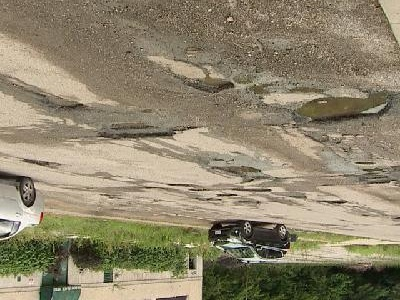pothole: (291, 87, 397, 126), (155, 56, 238, 95), (95, 119, 198, 142), (39, 94, 86, 112), (210, 163, 264, 176)
